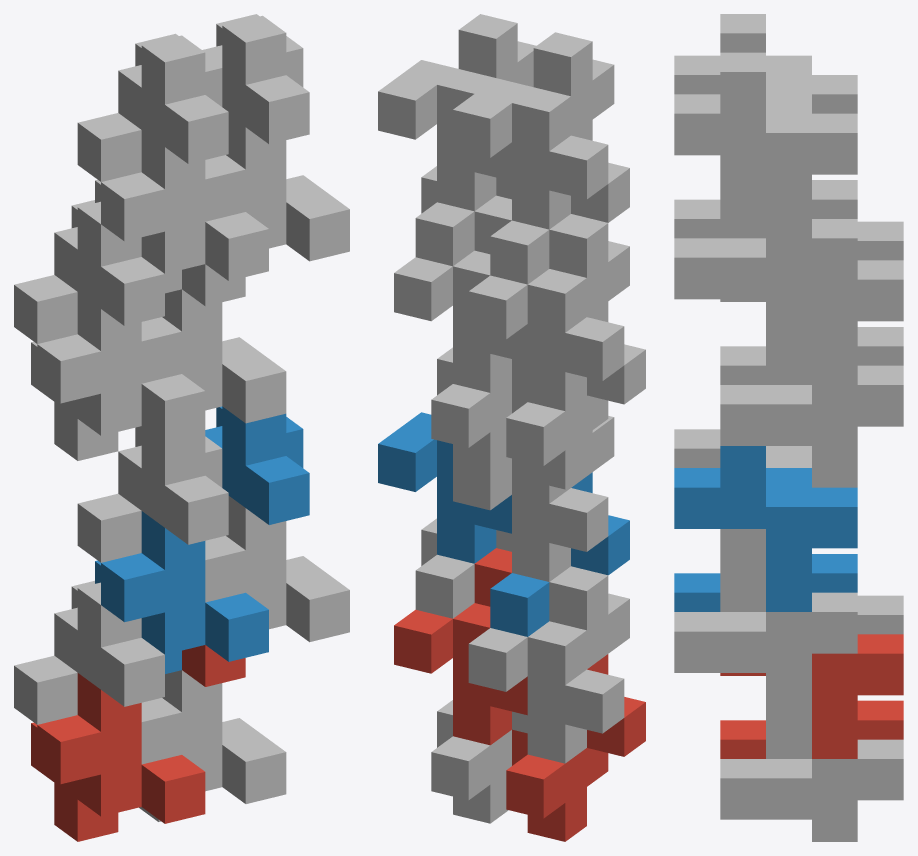
Rendered from tiling.obj.
3 views of the same model, side by side, from view 1: azimuth 30°, elevation 25°; view 2: azimuth 150°, elevation 25°; view 3: azimuth 270°, elevation 25° (orthographic). The views are drawn at different scales.
Parts seen in each view (by area): view 1: copy_1_domain_1, copy_1_domain_3, copy_2_domain_4, copy_1_domain_4, copy_1_domain_2, copy_2_domain_2, copy_2_domain_3, copy_2_domain_1, copy_1_domain_8, copy_1_domain_6, copy_1_domain_5, copy_1_domain_7 (+4 smaller); view 2: copy_2_domain_4, copy_2_domain_1, copy_2_domain_3, copy_2_domain_8, copy_2_domain_2, copy_2_domain_5, copy_2_domain_7, copy_1_domain_3, copy_1_domain_1, copy_2_domain_6, copy_1_domain_5, copy_1_domain_7 (+4 smaller); view 3: copy_2_domain_8, copy_1_domain_8, copy_1_domain_6, copy_2_domain_6, copy_1_domain_5, copy_1_domain_7, copy_2_domain_5, copy_2_domain_7, copy_2_domain_4, copy_2_domain_2, copy_1_domain_1, copy_1_domain_4 (+4 smaller).
Boxes of the visible parts, left/top/right/bottom form: copy_1_domain_1: left=31, top=673, right=205, bottom=841; copy_1_domain_3: left=31, top=292, right=205, bottom=460; copy_2_domain_4: left=77, top=33, right=228, bottom=181; copy_1_domain_4: left=95, top=130, right=268, bottom=293; copy_1_domain_2: left=95, top=511, right=268, bottom=673; copy_2_domain_2: left=77, top=426, right=228, bottom=562; copy_2_domain_3: left=14, top=200, right=164, bottom=343; copy_2_domain_1: left=14, top=580, right=164, bottom=724; copy_1_domain_8: left=205, top=115, right=349, bottom=261; copy_1_domain_6: left=205, top=496, right=349, bottom=642; copy_1_domain_5: left=139, top=670, right=286, bottom=821; copy_1_domain_7: left=139, top=289, right=286, bottom=428; copy_2_domain_4: left=453, top=32, right=614, bottom=229; copy_2_domain_1: left=468, top=566, right=629, bottom=763; copy_2_domain_3: left=468, top=214, right=629, bottom=410; copy_2_domain_8: left=378, top=14, right=536, bottom=211; copy_2_domain_2: left=453, top=416, right=614, bottom=581; copy_2_domain_5: left=394, top=548, right=527, bottom=745; copy_2_domain_7: left=394, top=195, right=527, bottom=392; copy_1_domain_3: left=506, top=301, right=645, bottom=489; copy_1_domain_1: left=506, top=654, right=645, bottom=841; copy_2_domain_6: left=378, top=412, right=511, bottom=563; copy_1_domain_5: left=431, top=700, right=527, bottom=823; copy_1_domain_7: left=431, top=347, right=527, bottom=471; copy_2_domain_8: left=674, top=52, right=857, bottom=238; copy_1_domain_8: left=674, top=155, right=857, bottom=321; copy_1_domain_6: left=674, top=529, right=857, bottom=695; copy_2_domain_6: left=674, top=446, right=857, bottom=611; copy_1_domain_5: left=720, top=695, right=903, bottom=841; copy_1_domain_7: left=720, top=321, right=903, bottom=467; copy_2_domain_5: left=720, top=634, right=903, bottom=758; copy_2_domain_7: left=720, top=260, right=903, bottom=384; copy_2_domain_4: left=674, top=14, right=857, bottom=113; copy_2_domain_2: left=674, top=429, right=857, bottom=487; copy_1_domain_1: left=720, top=700, right=903, bottom=758; copy_1_domain_4: left=674, top=180, right=857, bottom=238.
Size of the model in its own units: 6 by 19 by 5.
